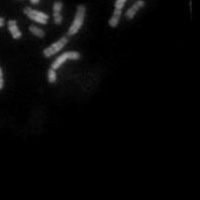chromosome: (42, 4, 85, 55), (47, 53, 80, 83), (107, 0, 129, 25), (23, 7, 48, 24), (125, 0, 142, 18), (8, 19, 21, 39), (53, 0, 63, 25), (29, 25, 44, 39), (0, 61, 2, 91), (25, 0, 38, 4), (0, 13, 3, 26)
